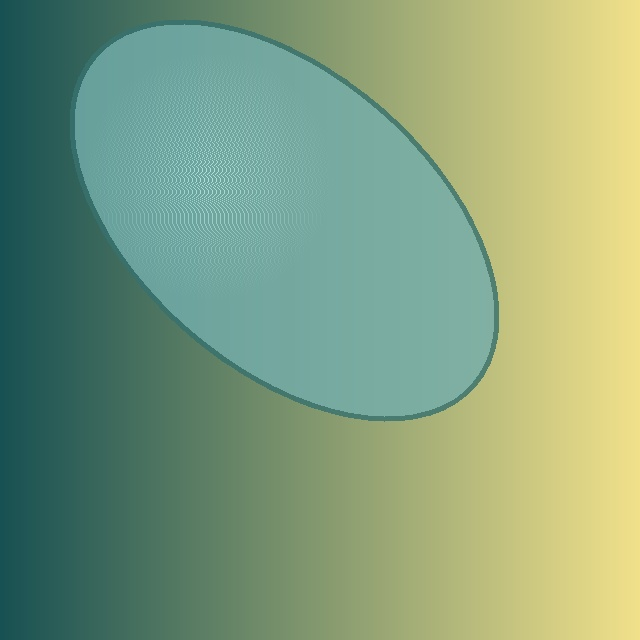lens: (72, 22, 496, 418)
